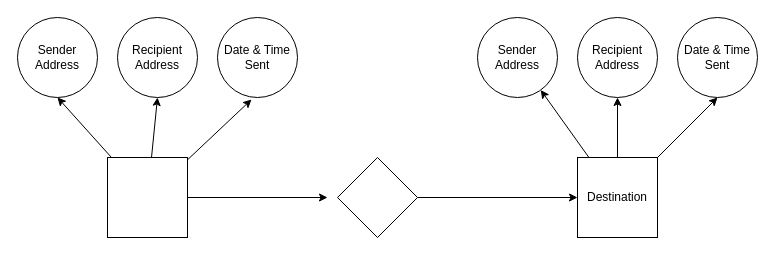
Some shapes in this 775 by 255 pixel diagram are drawn without their labels. Here are the shapes that lost their labels. From the top down, the centre of each, then its label:
At pixel 147 197: "Place of Origin".
At pixel 377 197: "Received at Destination".
